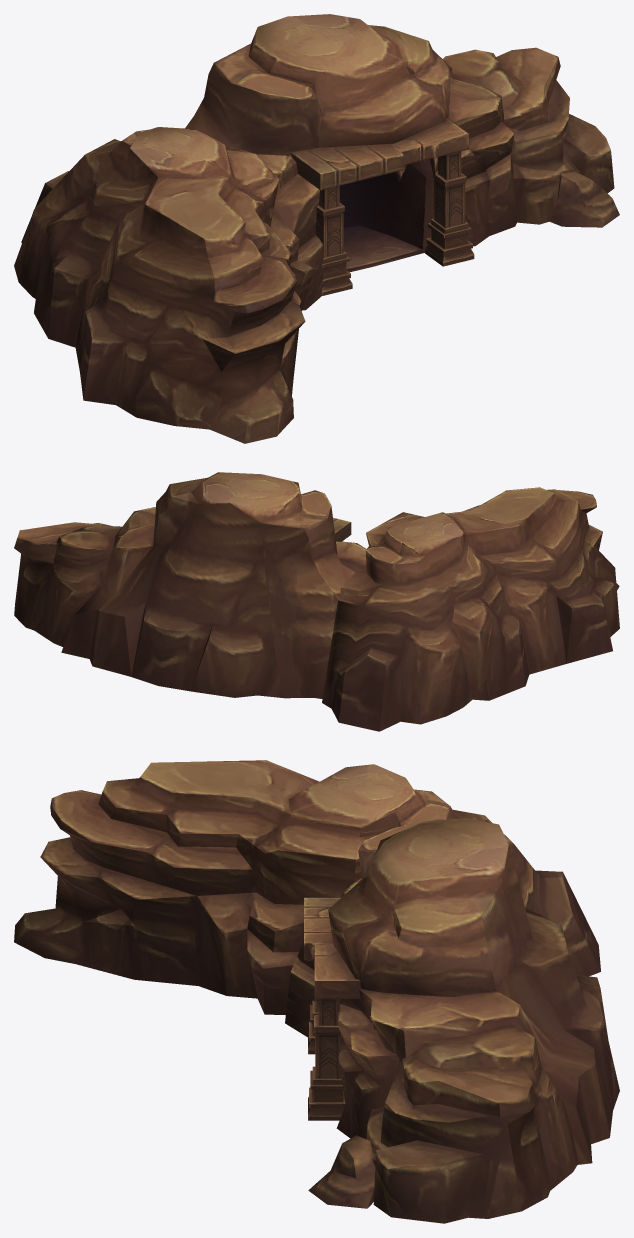
The model's file is ShanDong01.FBX.
3 views of the same model, one above another, from view 1: azimuth 30°, elevation 25°; view 2: azimuth 150°, elevation 25°; view 3: azimuth 270°, elevation 25° (orthographic). The views are drawn at different scales.
Parts seen in each view (by area): view 1: ShanDong01; view 2: ShanDong01; view 3: ShanDong01.
Boxes of the visible parts, x1,y1,x2,y2 form: ShanDong01: (14,14,619,443); ShanDong01: (14,472,619,731); ShanDong01: (14,760,619,1223).
Bounding box in the file's own units: 1298 × 403 × 974.
